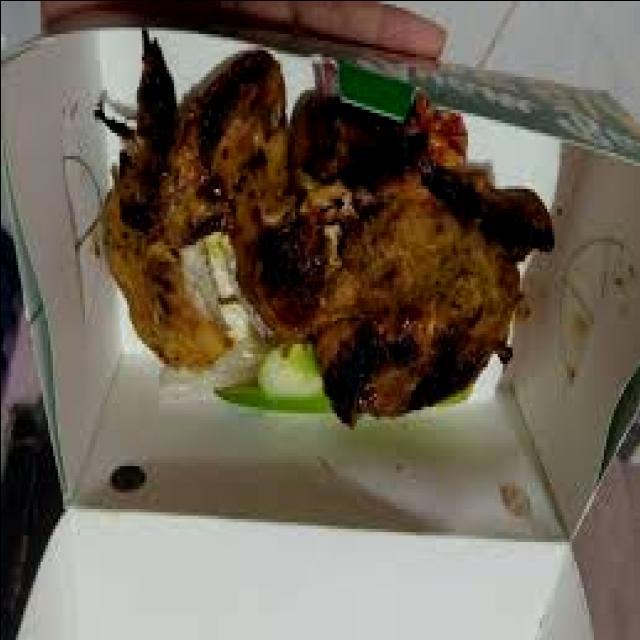ayam bakar: (309, 99, 554, 422), (111, 33, 321, 369)
